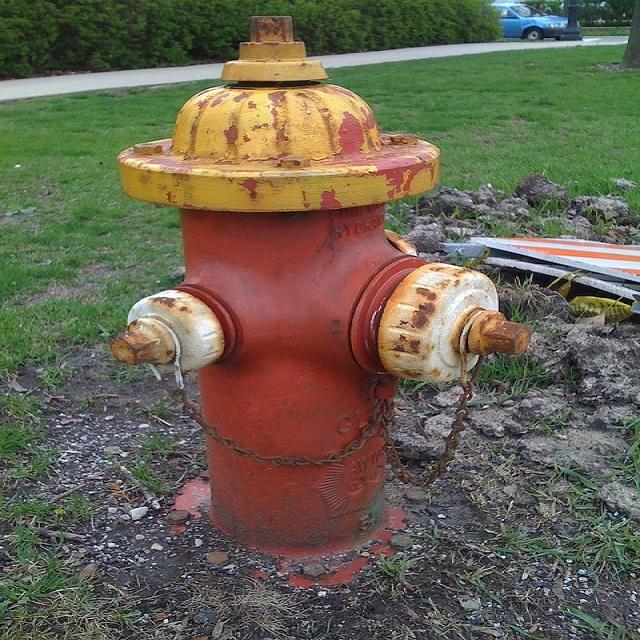fire_hydrant: (126, 67, 463, 493)
